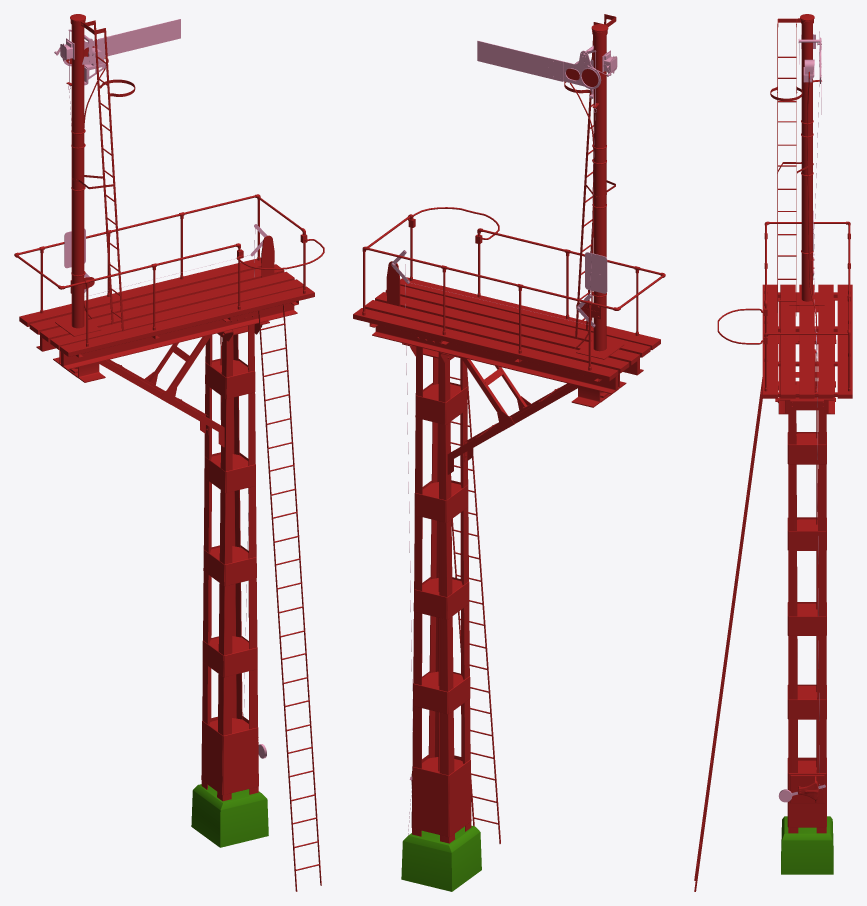
The picture shows the model from 3 angles, left to right: view 1: azimuth 30°, elevation 25°; view 2: azimuth 150°, elevation 25°; view 3: azimuth 270°, elevation 25°; orthographic projection. The views are drawn at different scales.
Visible parts, largest first — view 1: 1_0500_Bracket, 1_0500_Post, 1_0500_base, 1_0500_Arm, 1_0500_boxandlamp01; view 2: 1_0500_Bracket, 1_0500_Post, 1_0500_base, 1_0500_Arm, 1_0500_board01; view 3: 1_0500_Bracket, 1_0500_Post, 1_0500_base.
Boxes of the visible parts, x1,y1,x2,y2 form: 1_0500_Bracket: [14, 194, 324, 891]; 1_0500_Post: [55, 14, 274, 424]; 1_0500_base: [191, 784, 268, 847]; 1_0500_Arm: [62, 19, 180, 66]; 1_0500_boxandlamp01: [60, 38, 106, 85]; 1_0500_Bracket: [353, 207, 665, 843]; 1_0500_Post: [386, 14, 624, 771]; 1_0500_base: [401, 825, 481, 891]; 1_0500_Arm: [477, 40, 601, 89]; 1_0500_board01: [585, 252, 607, 293]; 1_0500_Bracket: [694, 221, 852, 891]; 1_0500_Post: [770, 14, 824, 767]; 1_0500_base: [781, 816, 833, 874].
Size of the model in its own units: 3.39 by 11.09 by 2.01.
